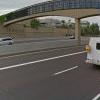Bridge: (7, 3, 97, 39)
